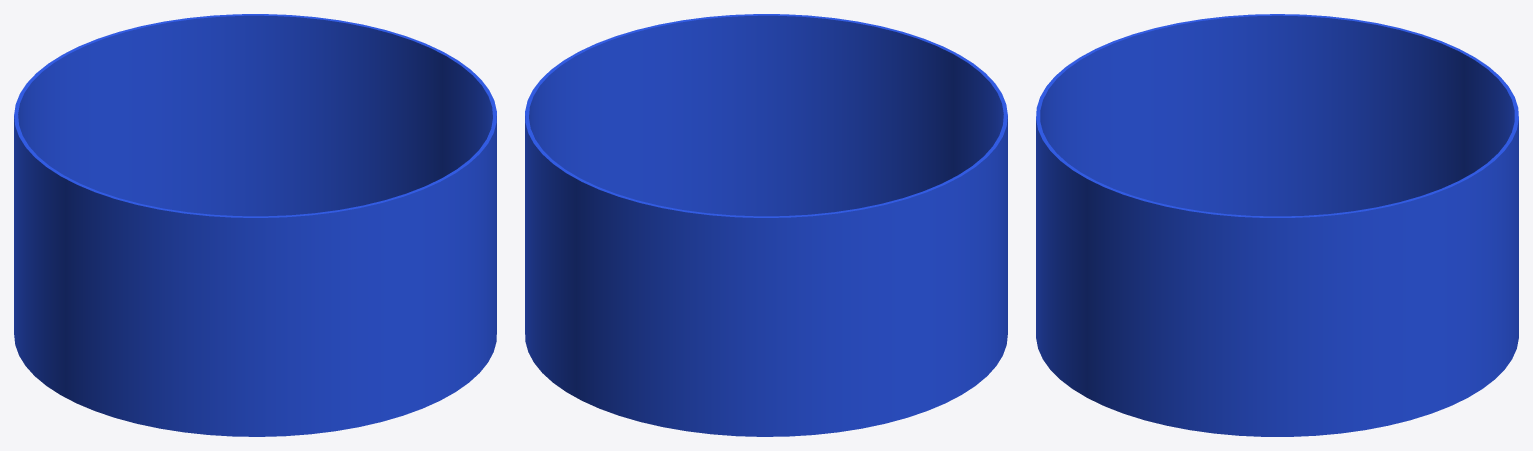
The model's file is drum-hornet-blue.obj.
The picture shows the model from 3 angles, left to right: view 1: azimuth 30°, elevation 25°; view 2: azimuth 150°, elevation 25°; view 3: azimuth 270°, elevation 25°; orthographic projection.
Parts seen in each view (by area): view 1: Entity2geometry; view 2: Entity2geometry; view 3: Entity2geometry.
Part boxes in pixels (box(x1,y1,x2,y2)): Entity2geometry: box(14, 14, 496, 436); Entity2geometry: box(525, 14, 1007, 436); Entity2geometry: box(1036, 14, 1518, 436).
Size of the model in its own units: 59.96 by 30 by 59.98.
